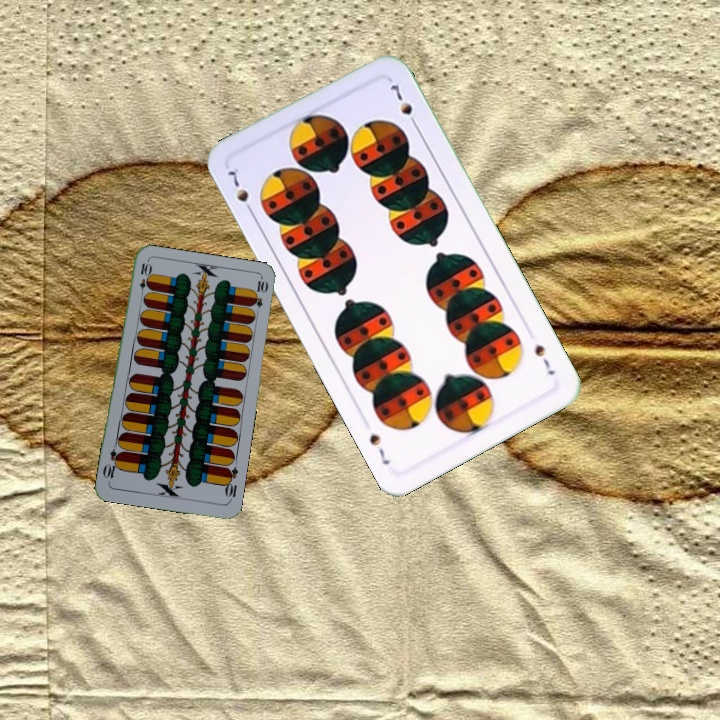E10: (220, 463, 241, 504), (135, 259, 152, 300)
S7: (223, 163, 257, 218), (530, 340, 558, 378)
